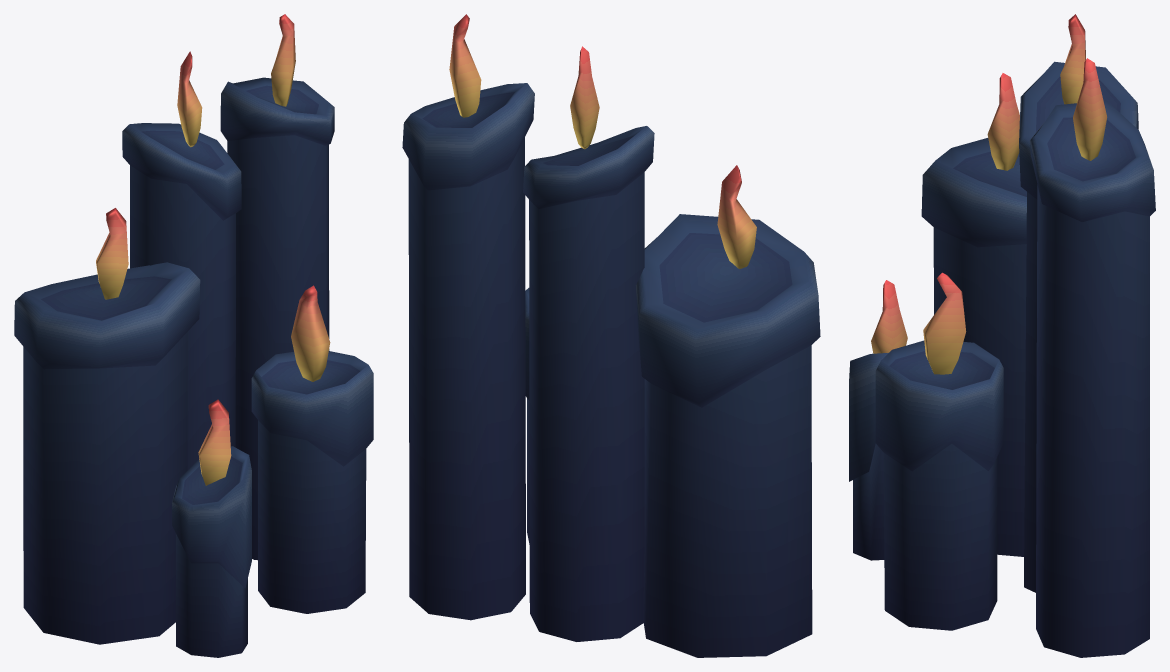
Rendered from Black_Candles_Big.fbx.
3 views of the same model, side by side, from view 1: azimuth 30°, elevation 25°; view 2: azimuth 150°, elevation 25°; view 3: azimuth 270°, elevation 25° (orthographic). The views are drawn at different scales.
Visible parts, largest first — view 1: pCube31; view 2: pCube31; view 3: pCube31.
Boxes of the visible parts, x1,y1,x2,y2 form: pCube31: (14,14,373,657); pCube31: (402,14,820,657); pCube31: (849,14,1155,657).
Bounding box in the file's own units: 1.24 × 1.87 × 0.9001.
